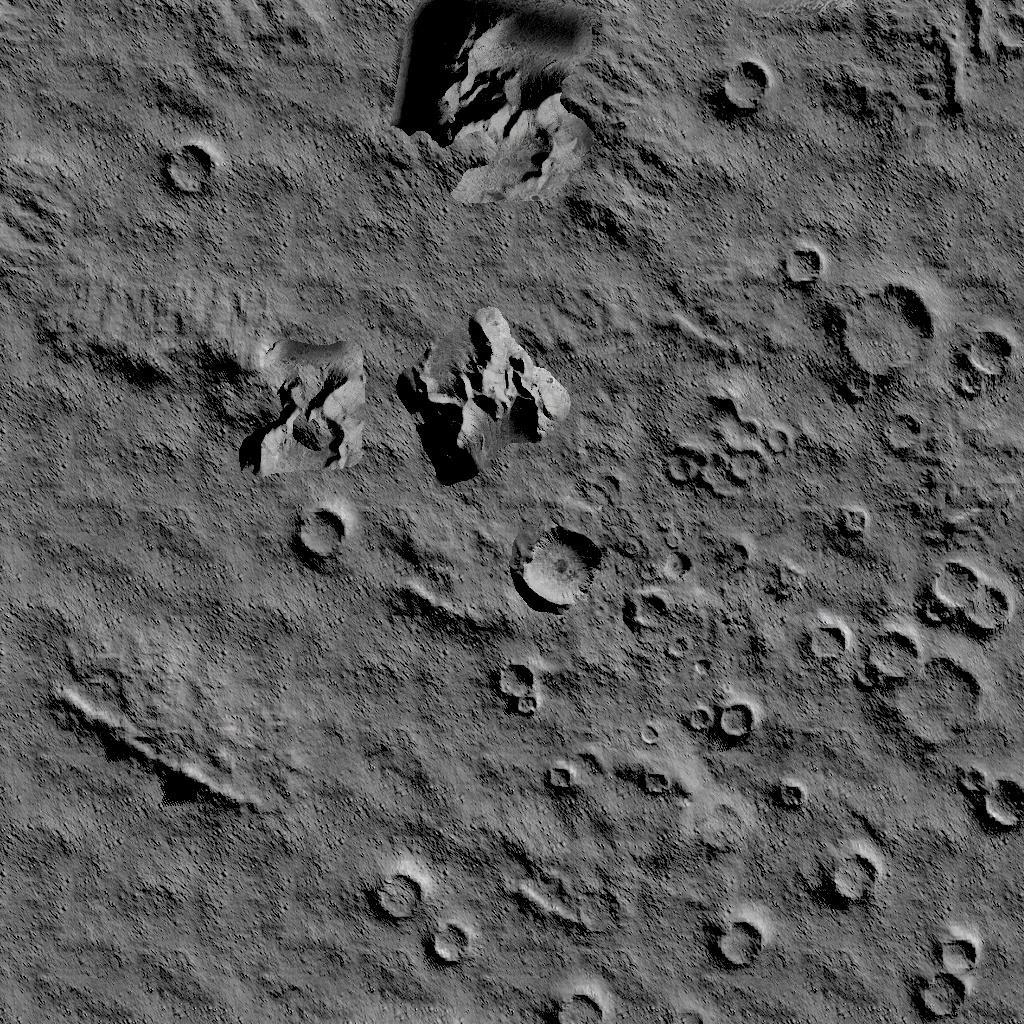Boulders: (398, 0, 680, 255), (46, 282, 368, 472), (0, 0, 336, 115), (43, 678, 273, 830), (398, 308, 570, 486), (808, 0, 1024, 140), (0, 160, 88, 268), (394, 578, 500, 636)
Crater: (778, 240, 938, 380), (664, 390, 796, 498), (856, 640, 980, 743), (371, 865, 473, 973), (921, 560, 1023, 628), (914, 928, 986, 1024), (518, 528, 600, 610), (953, 762, 1024, 832), (958, 328, 1012, 402), (821, 842, 880, 908), (163, 135, 218, 205), (708, 912, 770, 972), (290, 505, 350, 563), (491, 660, 543, 723), (716, 58, 773, 112), (686, 700, 755, 740), (546, 982, 608, 1024), (624, 585, 672, 633), (808, 618, 846, 670), (771, 772, 810, 818), (544, 762, 580, 800), (716, 535, 748, 575), (644, 768, 676, 798)
Plan surface: (0, 842, 358, 1024), (0, 485, 281, 665), (296, 648, 478, 830), (236, 128, 386, 272)
